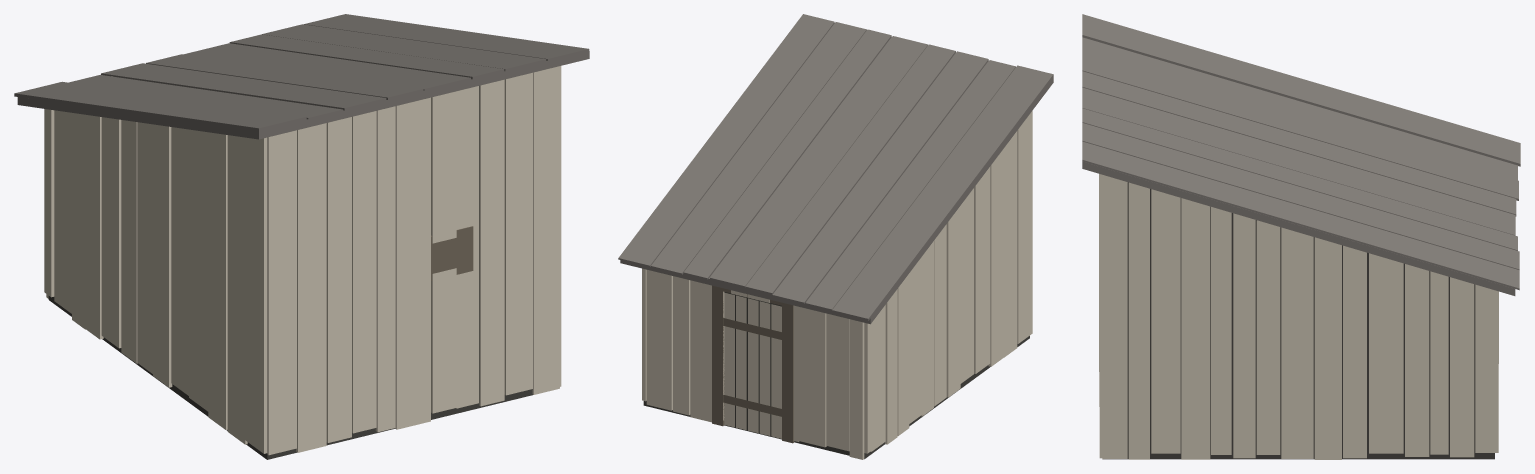
The model's file is recon_1835_blk_south_water_dearborn_a5_10__inferred_1835.glb.
3 views of the same model, side by side, from view 1: azimuth 30°, elevation 25°; view 2: azimuth 150°, elevation 25°; view 3: azimuth 270°, elevation 25° (orthographic). The views are drawn at different scales.
Visible parts, largest first — view 1: recon_1835_blk_south_water_dearborn_a5_10__inferred_1835; view 2: recon_1835_blk_south_water_dearborn_a5_10__inferred_1835; view 3: recon_1835_blk_south_water_dearborn_a5_10__inferred_1835.
Boxes of the visible parts, x1,y1,x2,y2 form: recon_1835_blk_south_water_dearborn_a5_10__inferred_1835: (14, 14, 589, 459); recon_1835_blk_south_water_dearborn_a5_10__inferred_1835: (618, 14, 1053, 459); recon_1835_blk_south_water_dearborn_a5_10__inferred_1835: (1082, 14, 1520, 459).
Bounding box in the file's own units: 3.65 × 3.64 × 4.68.
